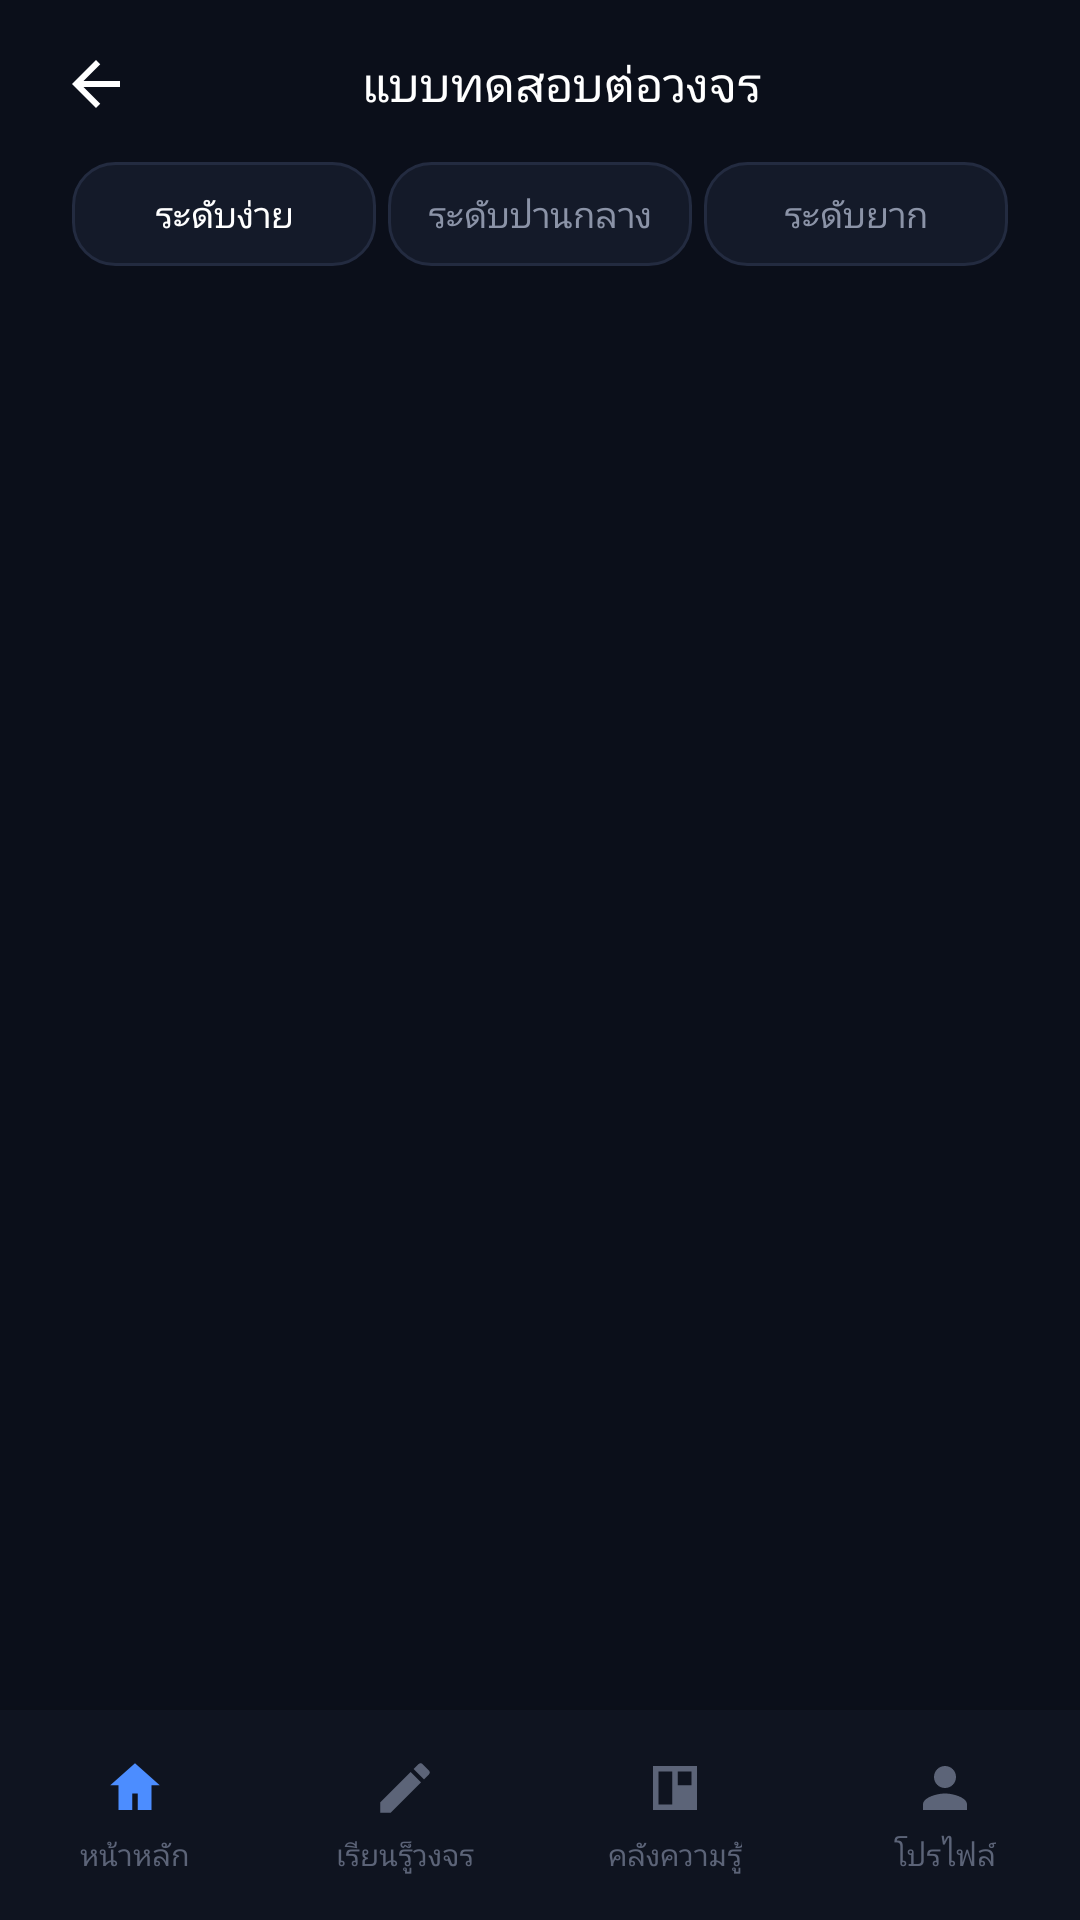

Named icons in this screenshot (1080 × 1920) and their centers, (x=x, y=y):
back: (x=96, y=84)
write: (x=405, y=1788)
